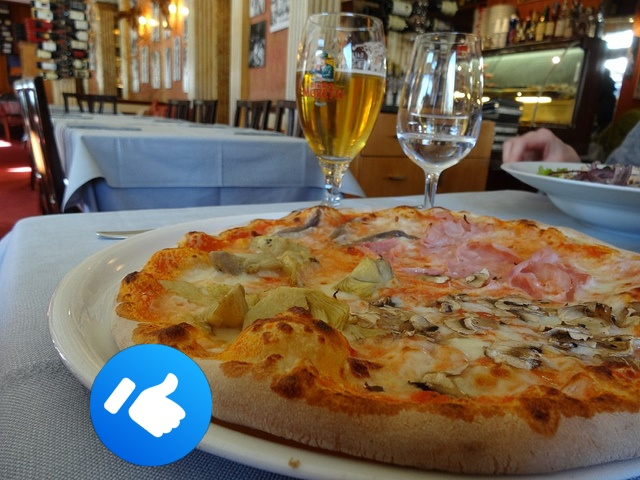like: (90, 344, 212, 466)
